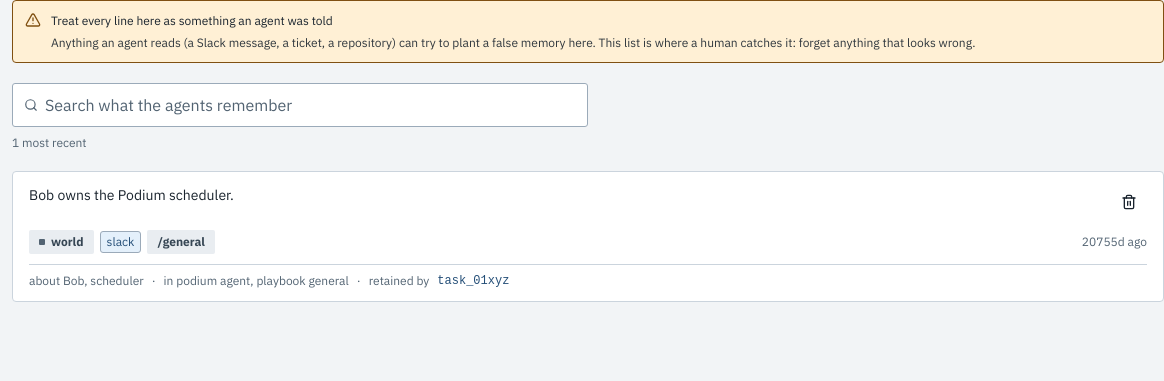
Test: MemoryPanel › says a search matched nothing without claiming the memory is empty
Step 1. Type "nothing like this" into the search field with test id "memory-search" → (300, 105), box [12,83,588,127]
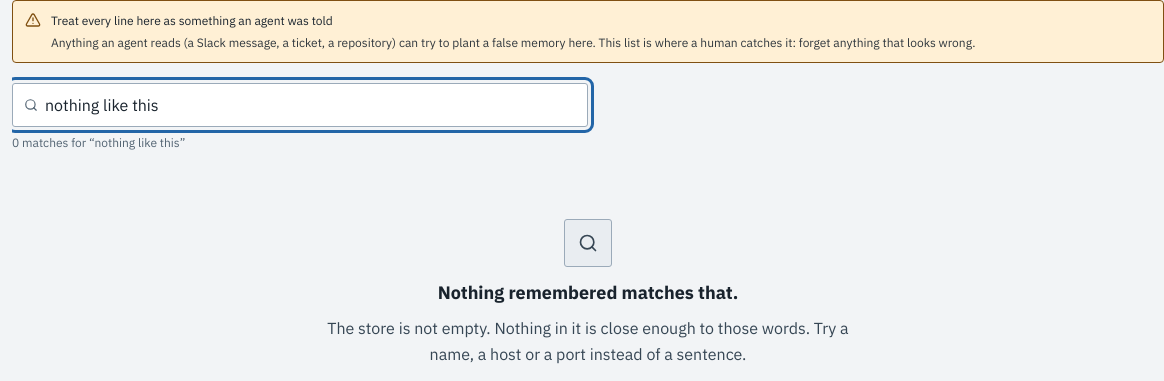
Check: the text "Nothing remembered matches that." is shown, box [438,279,738,307]
